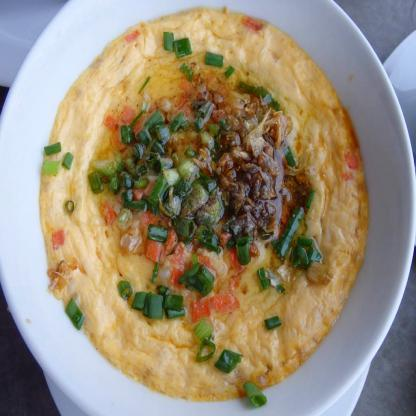Kaithoon: (35, 12, 372, 392)
